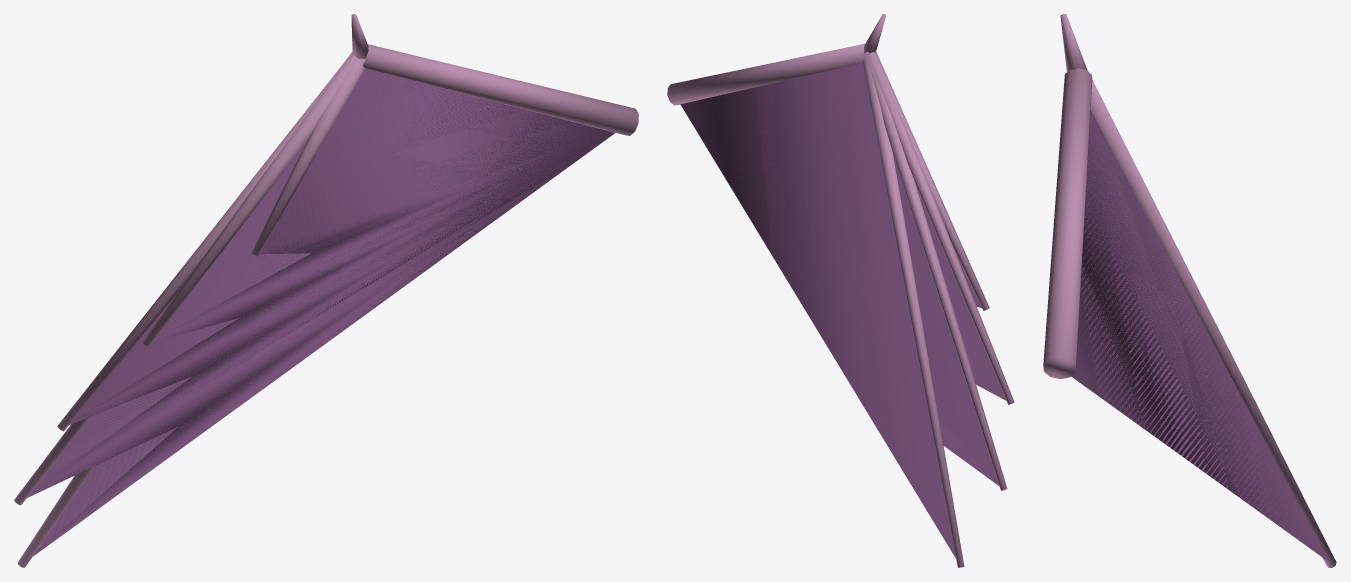
The model's file is bat_wing_l.glb.
The picture shows the model from 3 angles, left to right: view 1: azimuth 30°, elevation 25°; view 2: azimuth 150°, elevation 25°; view 3: azimuth 270°, elevation 25°; orthographic projection. The views are drawn at different scales.
Visible parts, largest first — view 1: BatMembrane, Cone, Cone.003, Cone.004, Cone.002, Cone.006, Cone.005; view 2: BatMembrane, Cone.006, Cone.005, Cone, Cone.004, Cone.003; view 3: BatMembrane, Cone, Cone.006, Cone.001.
Part boxes in pixels (box(x1,y1,x2,y2)): BatMembrane: box(27, 68, 614, 556); Cone: box(363, 44, 638, 135); Cone.003: box(142, 52, 364, 346); Cone.004: box(57, 52, 362, 431); Cone.002: box(251, 55, 365, 256); Cone.006: box(17, 59, 360, 567); Cone.005: box(14, 52, 361, 505); BatMembrane: box(680, 63, 1006, 558); Cone.006: box(862, 52, 964, 567); Cone.005: box(866, 52, 1007, 490); Cone: box(667, 43, 864, 105); Cone.004: box(866, 52, 1014, 404); Cone.003: box(867, 51, 989, 310); BatMembrane: box(1071, 110, 1327, 560); Cone: box(1043, 68, 1092, 379); Cone.006: box(1090, 80, 1336, 567); Cone.001: box(1060, 14, 1087, 72).
Size of the model in its own units: 1.87 by 1.97 by 0.7761.
